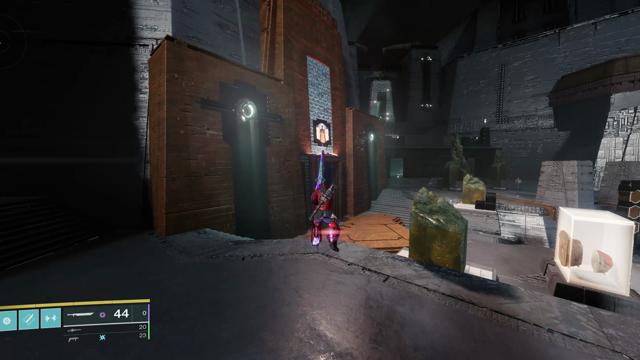worship: (316, 123, 329, 143)
